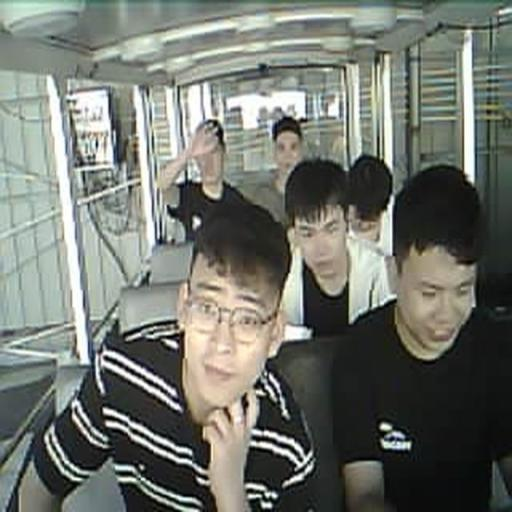persona: (32, 198, 320, 511), (330, 163, 512, 511), (278, 156, 396, 337), (164, 117, 248, 241), (251, 115, 306, 224), (344, 153, 393, 249)
